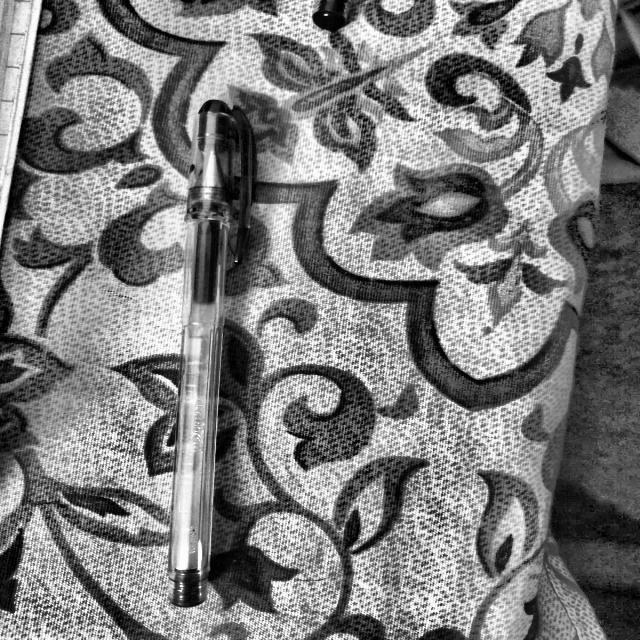Pen: (119, 68, 295, 626)
